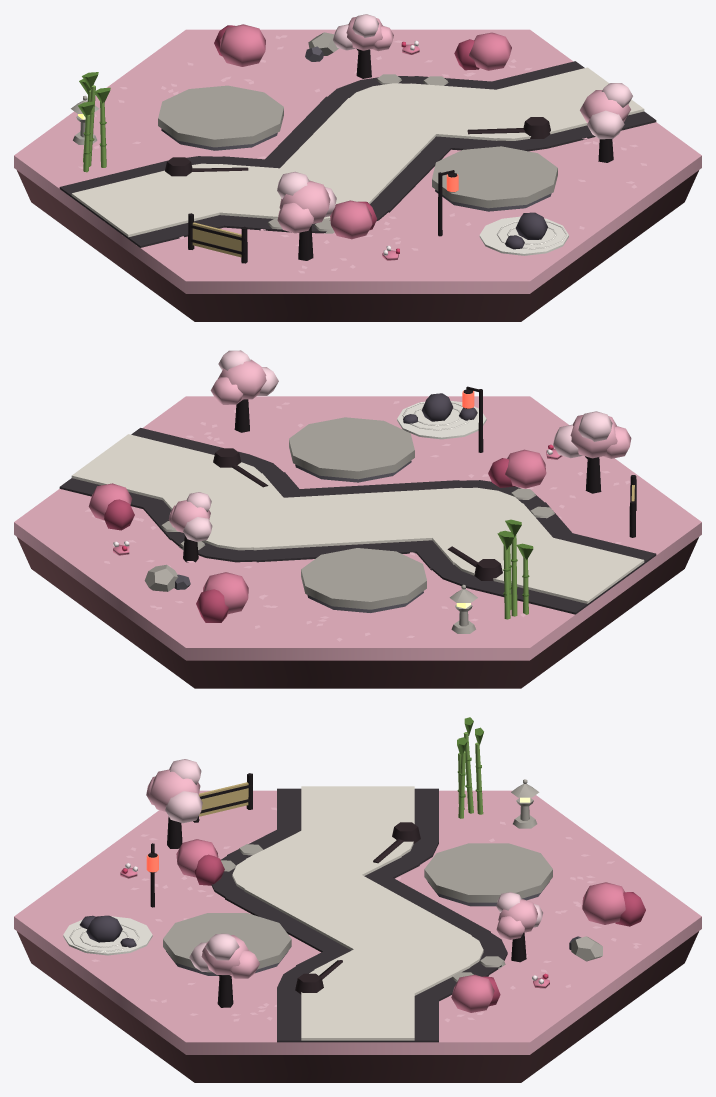
File: tile_longRoad.glb
3 renders of one model, top to bottom at view 1: azimuth 30°, elevation 25°; view 2: azimuth 150°, elevation 25°; view 3: azimuth 270°, elevation 25°, orthographic.
Visible parts, largest first — view 1: ground, road, ground_soil, tower_slot_1_plate, tower_slot_2_plate, deco_tree_4, deco_tree_1, deco_karesansui_gravel, deco_tree_8, deco_bamboo, deco_bush_3_a, deco_bush_0_a (+5 smaller); view 2: ground, road, ground_soil, tower_slot_2_plate, tower_slot_1_plate, deco_tree_4, deco_tree_1, deco_bamboo, deco_karesansui_gravel, deco_tree_8, deco_karesansui, deco_bush_0_a (+6 smaller); view 3: ground, road, ground_soil, tower_slot_1_plate, tower_slot_2_plate, deco_tree_4, deco_tree_1, deco_karesansui_gravel, deco_bamboo, deco_tree_8, deco_bush_3_a, deco_karesansui (+7 smaller).
Part boxes in pixels (bbox=[...]): ground: bbox=[14, 29, 701, 293]; road: bbox=[59, 61, 656, 247]; ground_soil: bbox=[17, 170, 698, 321]; tower_slot_1_plate: bbox=[158, 85, 283, 147]; tower_slot_2_plate: bbox=[432, 146, 557, 208]; deco_tree_4: bbox=[277, 171, 336, 233]; deco_tree_1: bbox=[580, 83, 632, 139]; deco_karesansui_gravel: bbox=[479, 216, 568, 255]; deco_tree_8: bbox=[333, 14, 393, 51]; deco_bamboo: bbox=[78, 72, 110, 172]; deco_bush_3_a: bbox=[219, 24, 265, 66]; deco_bush_0_a: bbox=[330, 200, 372, 239]; ground: bbox=[14, 396, 701, 660]; road: bbox=[59, 428, 656, 614]; ground_soil: bbox=[17, 537, 698, 688]; tower_slot_2_plate: bbox=[289, 417, 414, 479]; tower_slot_1_plate: bbox=[301, 548, 426, 609]; deco_tree_4: bbox=[553, 411, 631, 458]; deco_tree_1: bbox=[210, 350, 278, 404]; deco_bamboo: bbox=[497, 519, 533, 619]; deco_karesansui_gravel: bbox=[397, 400, 486, 439]; deco_tree_8: bbox=[168, 492, 212, 541]; deco_karesansui: bbox=[402, 393, 477, 430]; deco_bush_0_a: bbox=[505, 449, 546, 488]; ground: bbox=[14, 790, 701, 1054]; road: bbox=[211, 786, 507, 1042]; ground_soil: bbox=[17, 931, 698, 1082]; tower_slot_1_plate: bbox=[424, 843, 552, 902]; tower_slot_2_plate: bbox=[163, 913, 291, 972]; deco_tree_4: bbox=[146, 759, 202, 823]; deco_tree_1: bbox=[189, 933, 259, 978]; deco_karesansui_gravel: bbox=[63, 916, 152, 955]; deco_bamboo: bbox=[457, 717, 483, 818]; deco_tree_8: bbox=[496, 892, 542, 939]; deco_bush_3_a: bbox=[582, 882, 625, 924]; deco_karesansui: bbox=[69, 915, 139, 952].
Bounding box in the file's own units: 1.73 × 0.445 × 2.
